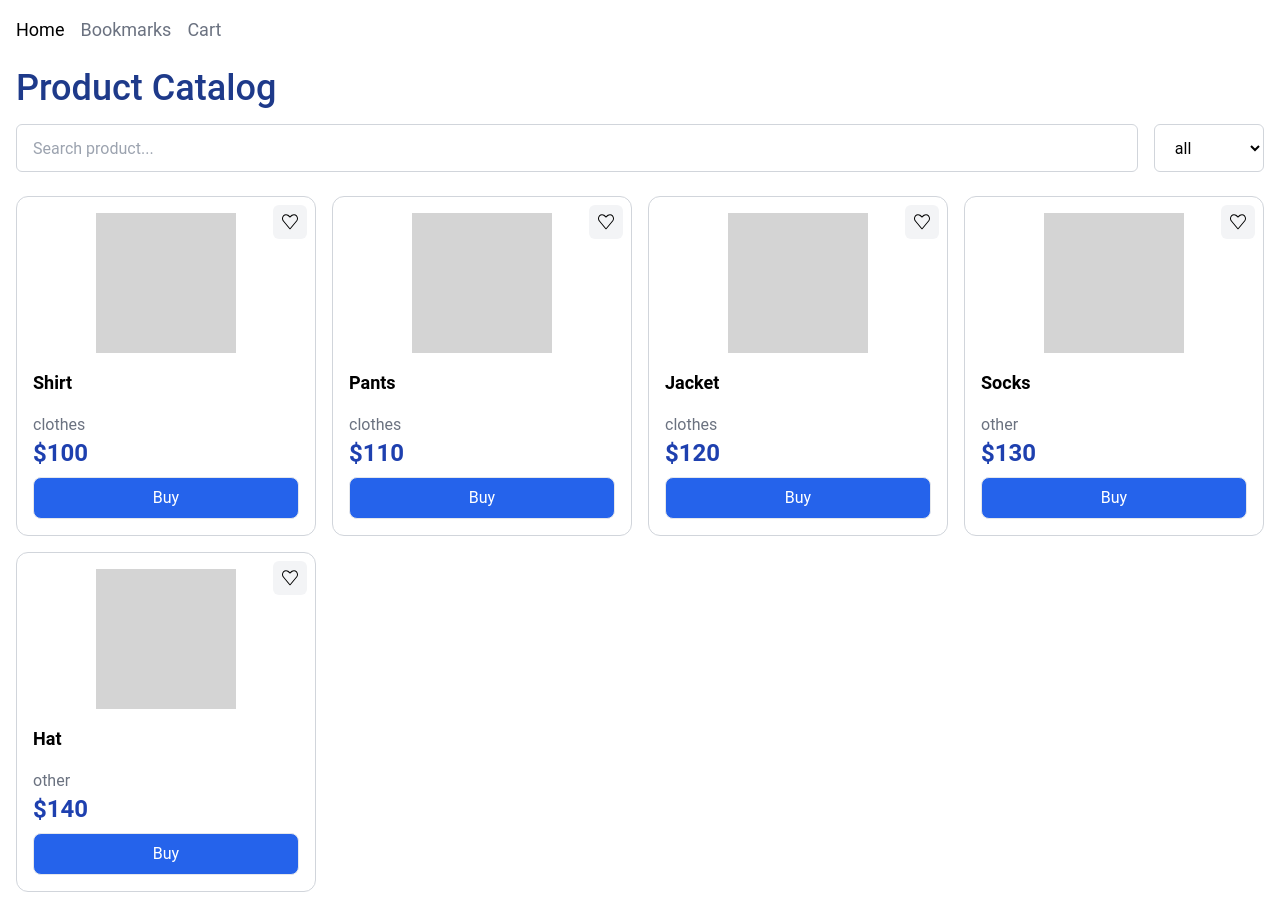
Test case: Cart › Integration tests › Placing order to cart
Click the button with aria-label "buy-Shirt".
click(166, 498)  # box x1=33 y1=477 x2=299 y2=519
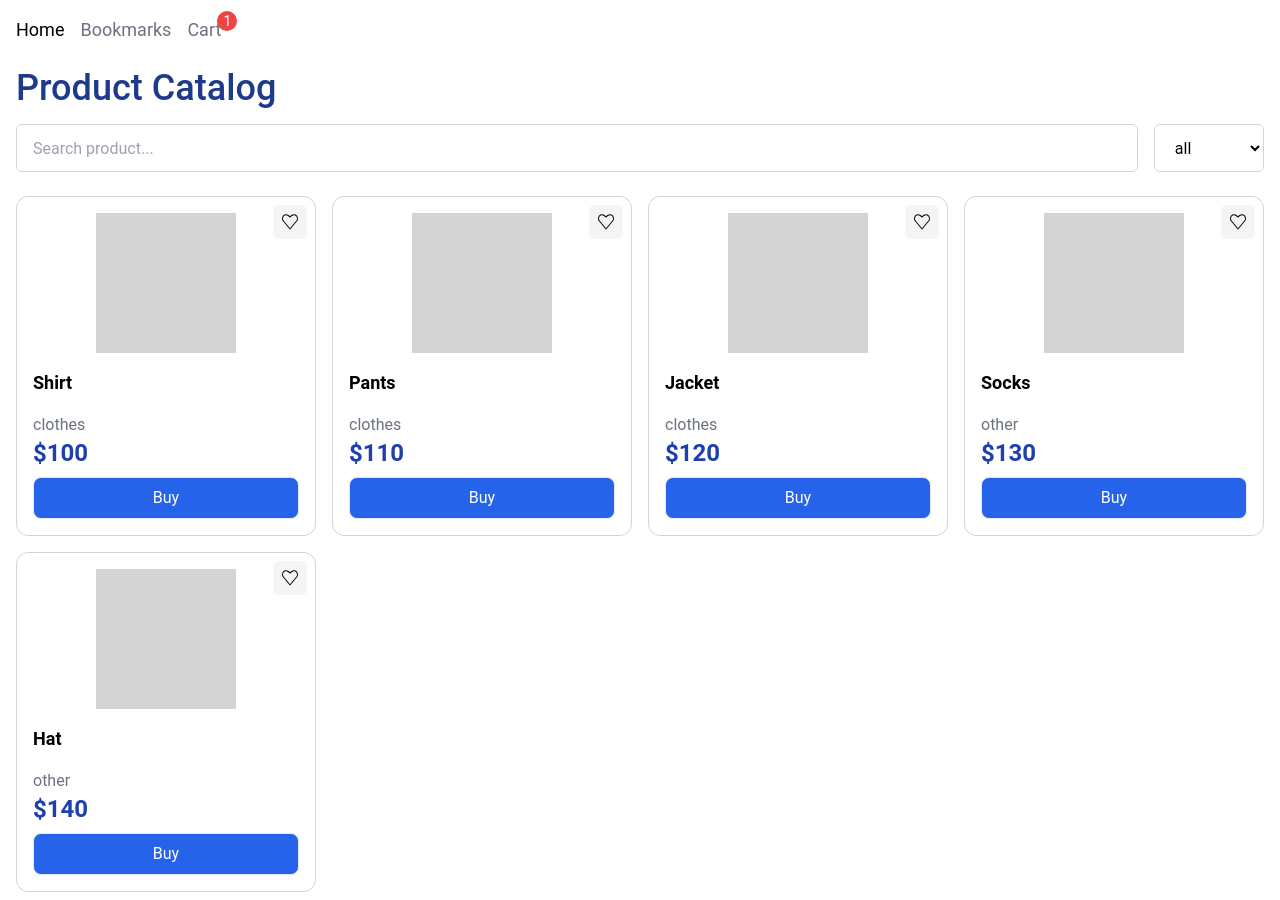
Now the message named "Cart's count" is shown, box x1=217 y1=11 x2=237 y2=31
Now the message named "Cart's count" reads "1", box x1=223 y1=13 x2=231 y2=29
